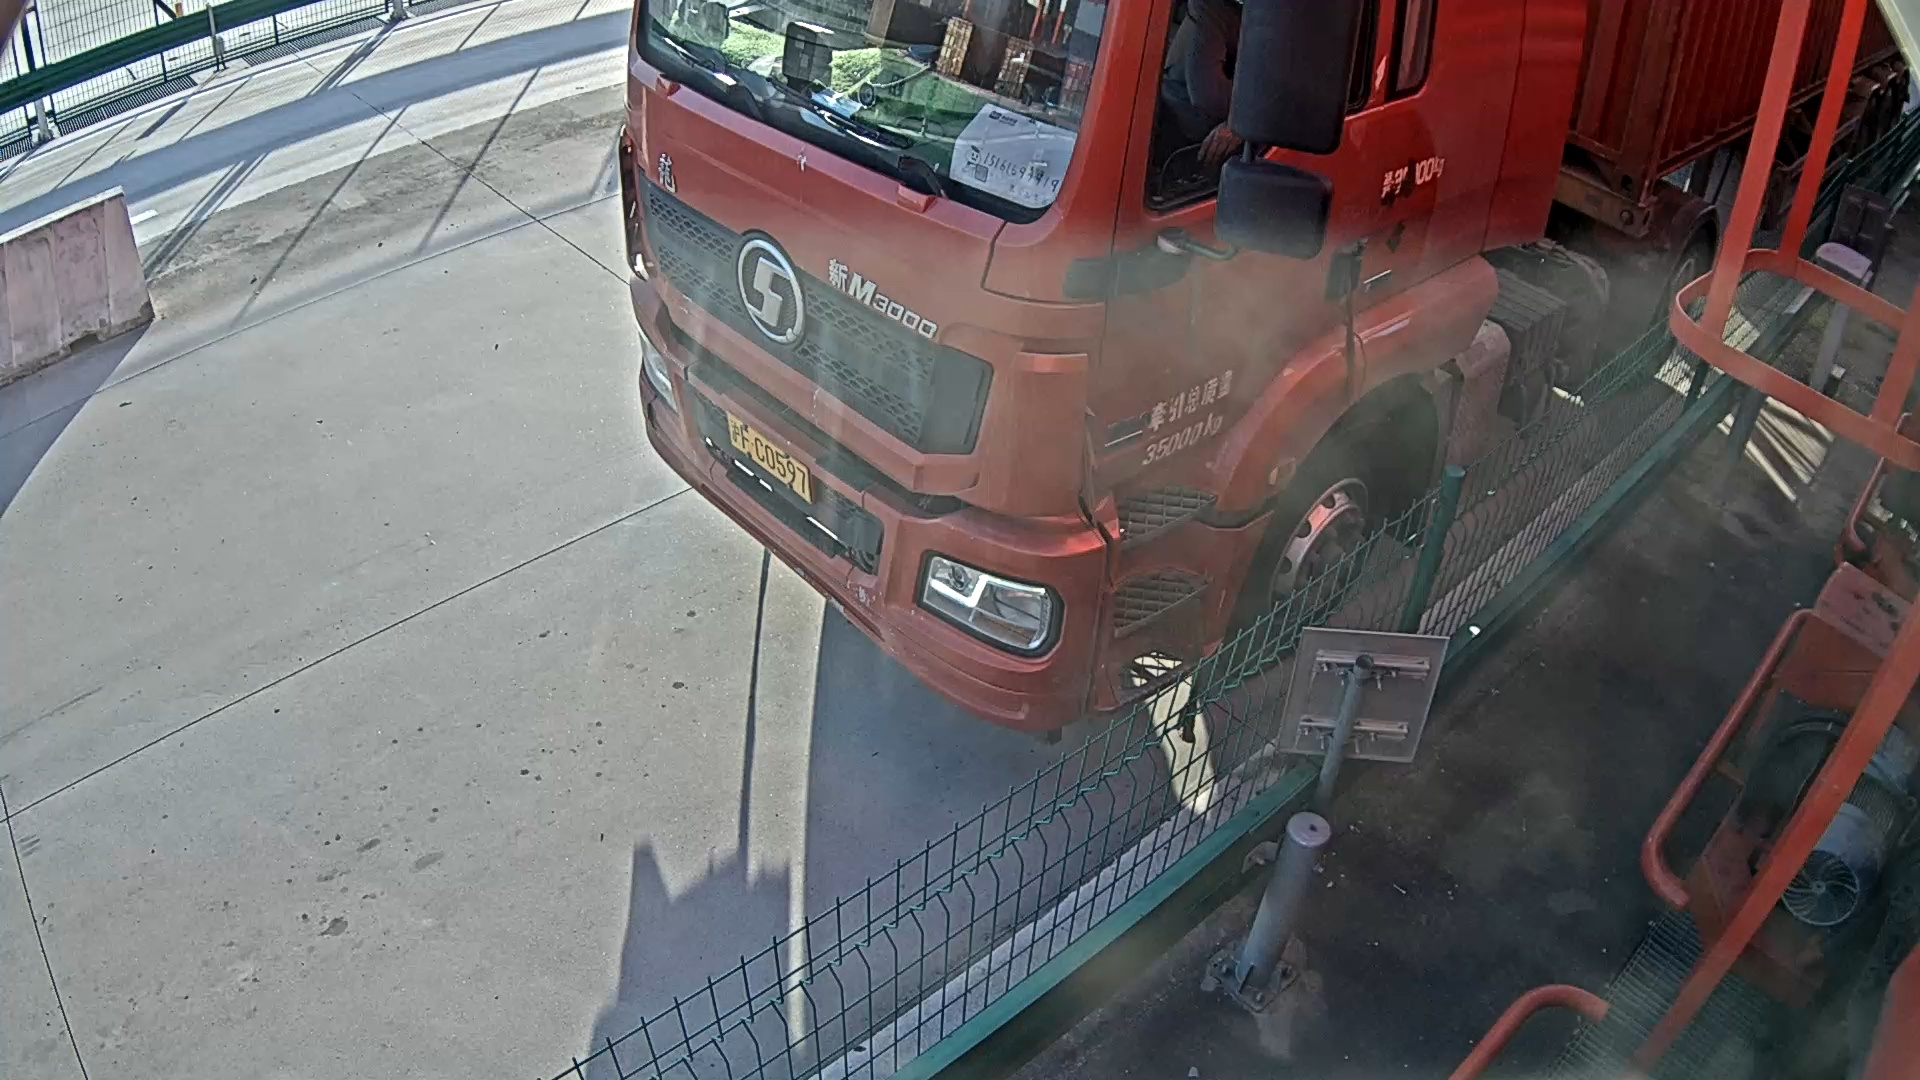head: (612, 8, 1399, 765)
plate: (714, 408, 813, 500)
